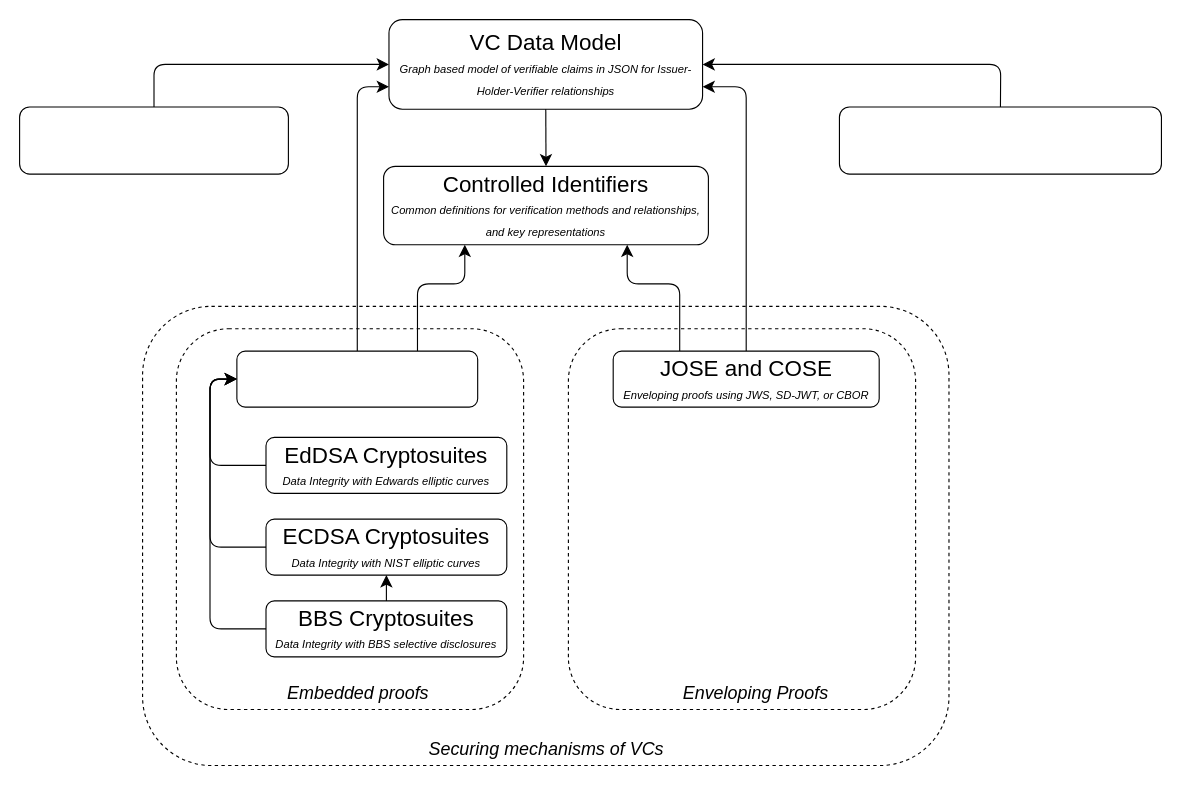
Some shapes in this 1182 by 785 pixel diagram are drawn without their labels. Each missing label, with the centre of its shape:
"Bitstring Status List Publishing status information for VCs using bitstrings" goes at [999,140].
"Data Integrity General structure of embedded proofs" goes at [357,378].
"JSON Schema JSON Schemas for the structural checking of VCs" goes at [153,140].
